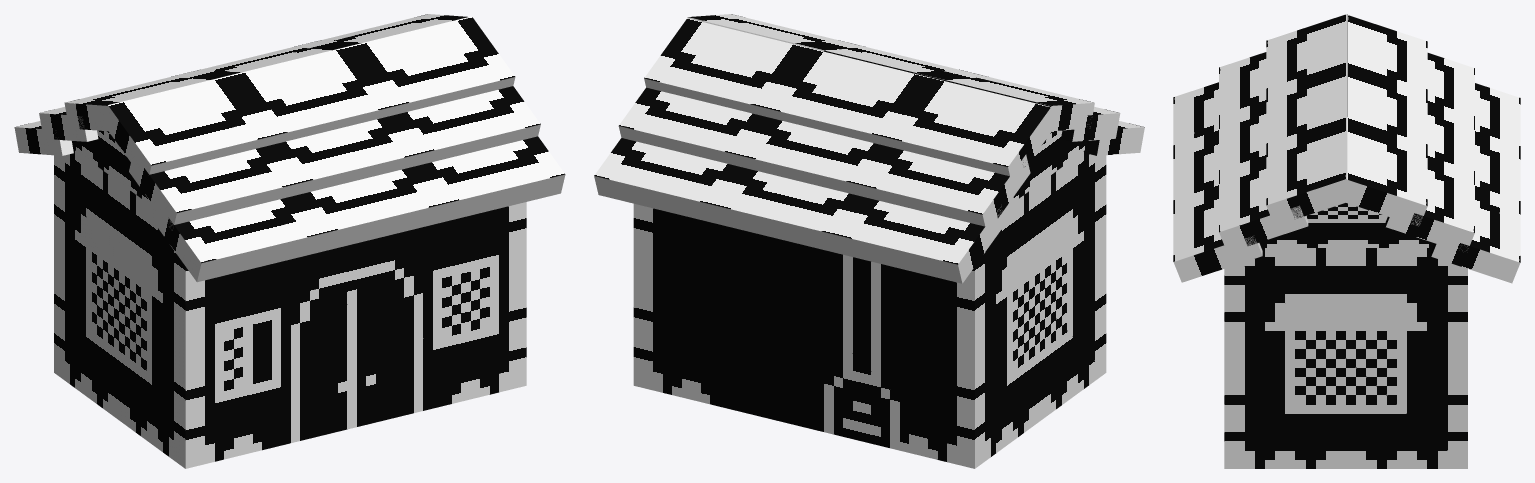
The model's file is house1.fbx.
The picture shows the model from 3 angles, left to right: view 1: azimuth 30°, elevation 25°; view 2: azimuth 150°, elevation 25°; view 3: azimuth 270°, elevation 25°; orthographic projection. The views are drawn at different scales.
Visible parts, largest first — view 1: Cube, Cube.003, Cube.001, Cube.002, Cube.006, Cube.005, Cube.004; view 2: Cube, Cube.006, Cube.004, Cube.005, Cube.003, Cube.002, Cube.001; view 3: Cube, Cube.003, Cube.006, Cube.002, Cube.005, Cube.004, Cube.001.
Part boxes in pixels (x1,y1,x2,y2): Cube: (54, 130, 526, 468); Cube.003: (103, 16, 515, 174); Cube.001: (153, 136, 565, 282); Cube.002: (129, 86, 540, 230); Cube.006: (64, 14, 467, 131); Cube.005: (39, 107, 98, 141); Cube.004: (14, 121, 73, 155); Cube: (633, 130, 1106, 468); Cube.006: (644, 18, 1051, 178); Cube.004: (594, 138, 1005, 283); Cube.005: (618, 87, 1030, 233); Cube.003: (687, 14, 1094, 131); Cube.002: (1061, 107, 1120, 141); Cube.001: (1085, 121, 1144, 155); Cube: (1224, 203, 1467, 468); Cube.003: (1266, 14, 1351, 225); Cube.006: (1339, 15, 1427, 226); Cube.002: (1219, 52, 1308, 252); Cube.005: (1385, 53, 1474, 250); Cube.004: (1431, 83, 1520, 283); Cube.001: (1173, 82, 1262, 282).
Bounding box in the file's own units: 267 × 320 × 285.
4 materials, 4 textured.
